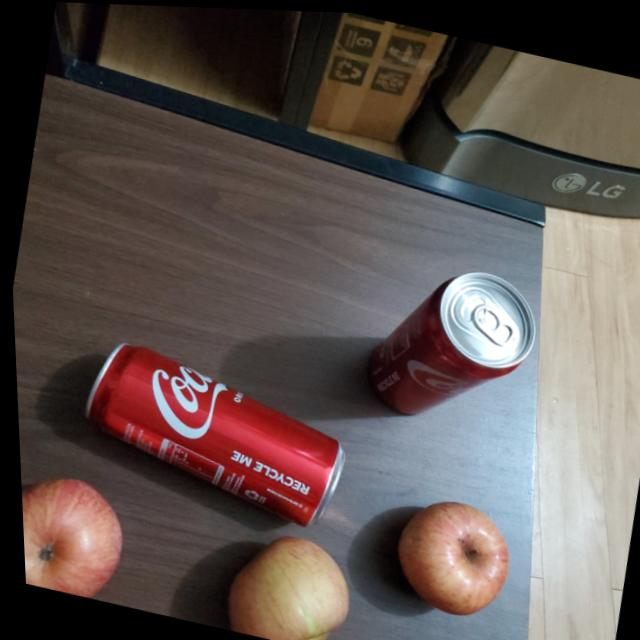apple: (378, 490, 515, 624), (212, 522, 354, 640), (16, 459, 126, 600)
coke: (72, 329, 361, 526), (352, 247, 543, 437)
